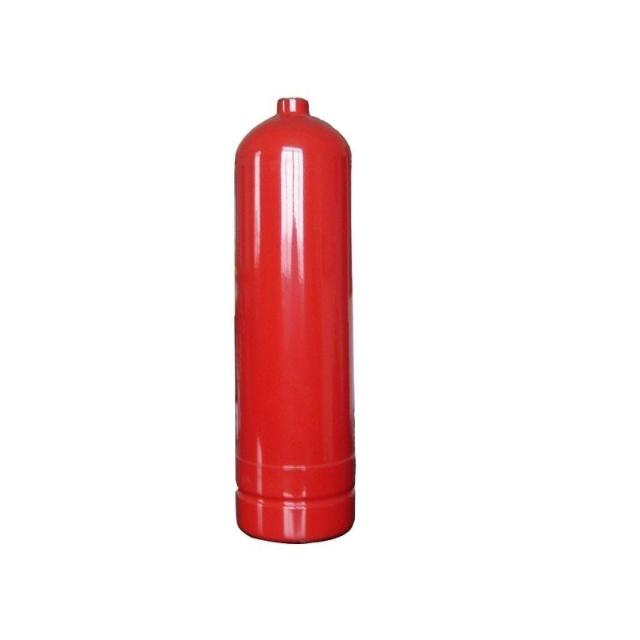fire_extinguisher: (229, 90, 363, 544)
